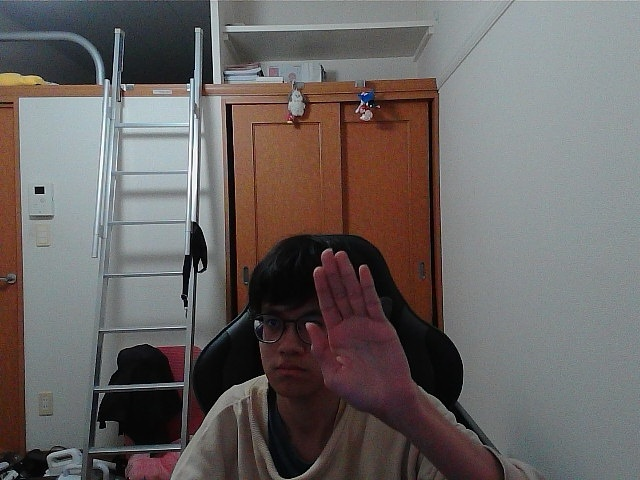open_palm: (312, 257, 386, 398)
